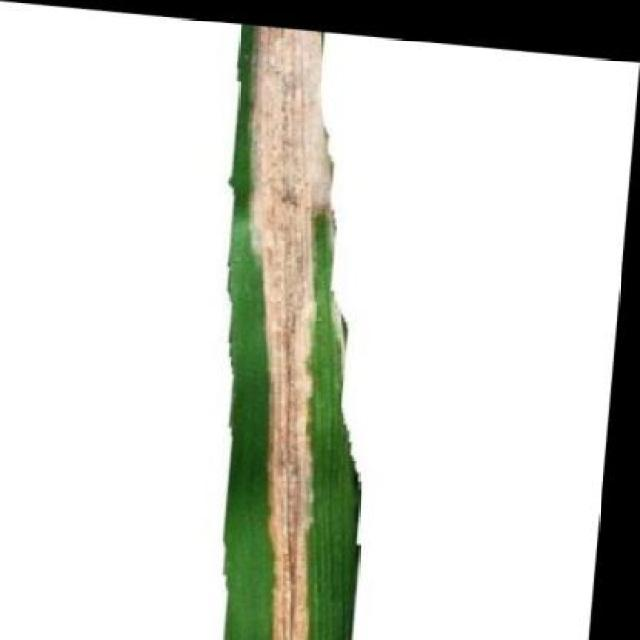Brown_Spot: (180, 17, 412, 640)
